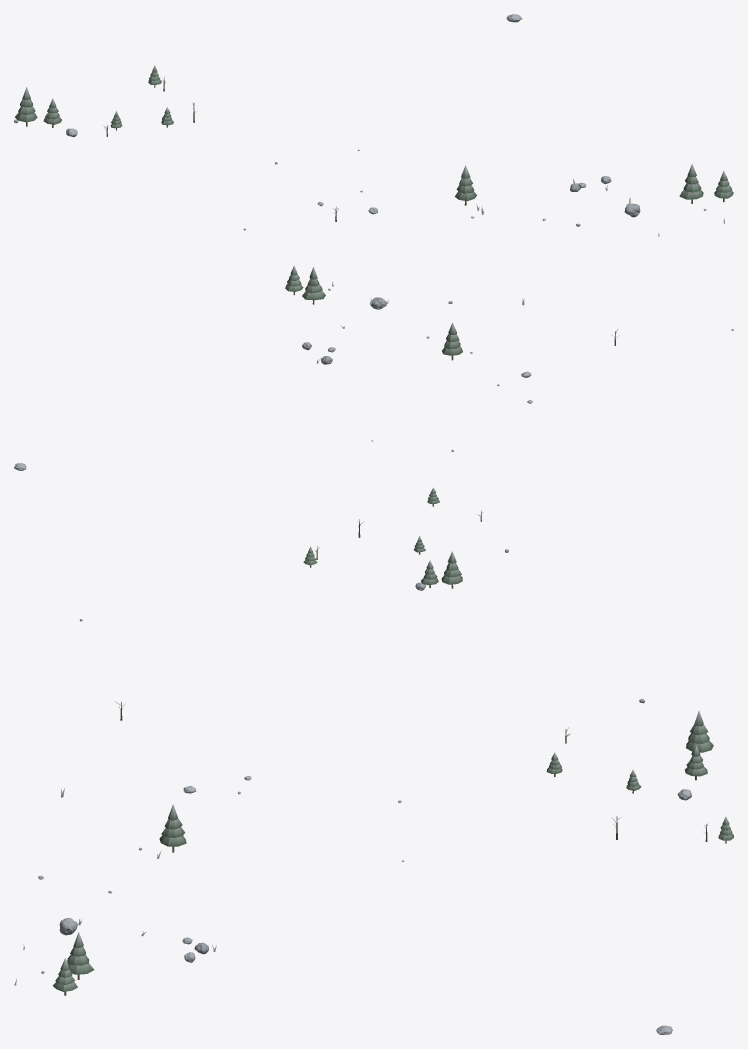
Rendered from frost_land_scatter_c20_11.glb.
3 views of the same model, one above another, from view 1: azimuth 30°, elevation 25°; view 2: azimuth 150°, elevation 25°; view 3: azimuth 270°, elevation 25° (orthographic). The views are drawn at different scales.
Visible parts, largest first — view 1: frost_land_scatter_c20_11; view 2: frost_land_scatter_c20_11; view 3: frost_land_scatter_c20_11.
Boxes of the visible parts, left/top/right/bottom form: frost_land_scatter_c20_11: left=14, top=14, right=733, bottom=236; frost_land_scatter_c20_11: left=14, top=265, right=733, bottom=590; frost_land_scatter_c20_11: left=14, top=619, right=733, bottom=1034.
Bounding box in the file's own units: 216 × 44.37 × 216.
